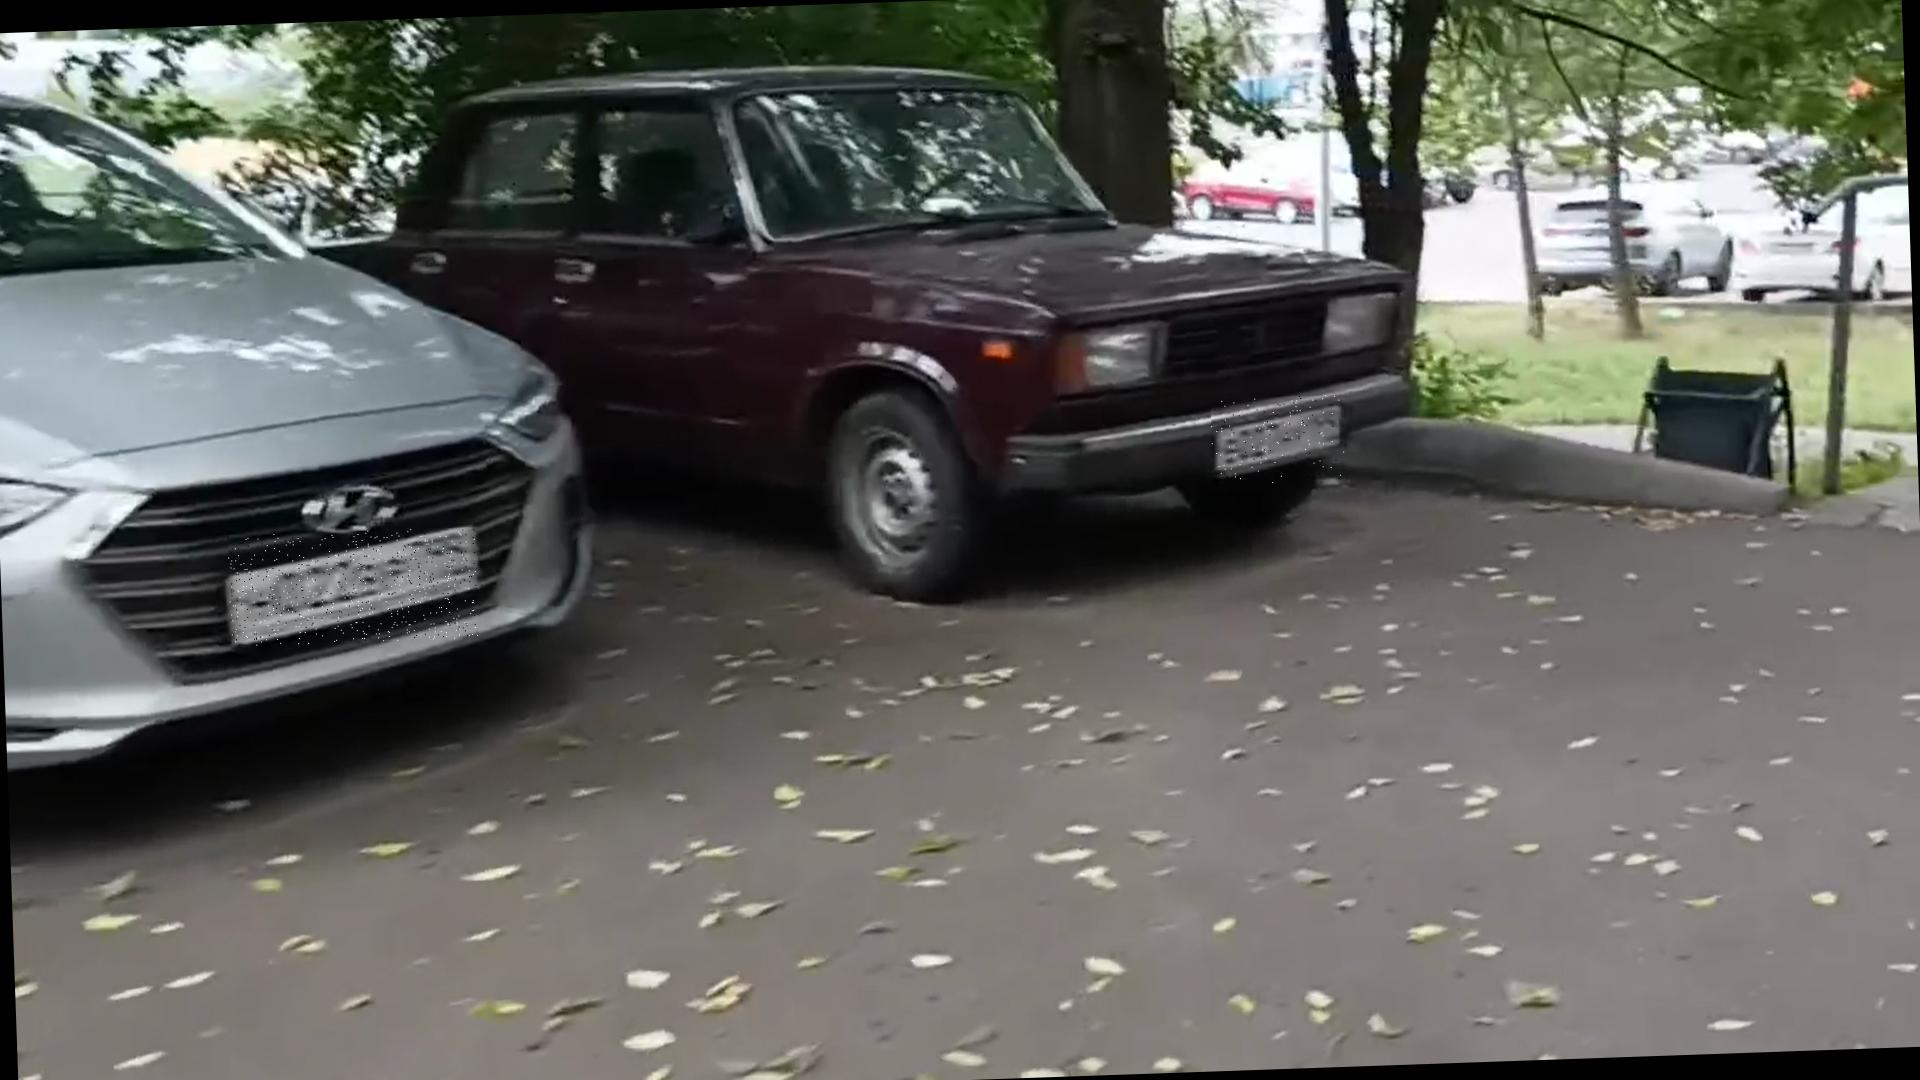plate: (229, 529, 481, 649), (1212, 397, 1347, 488)
